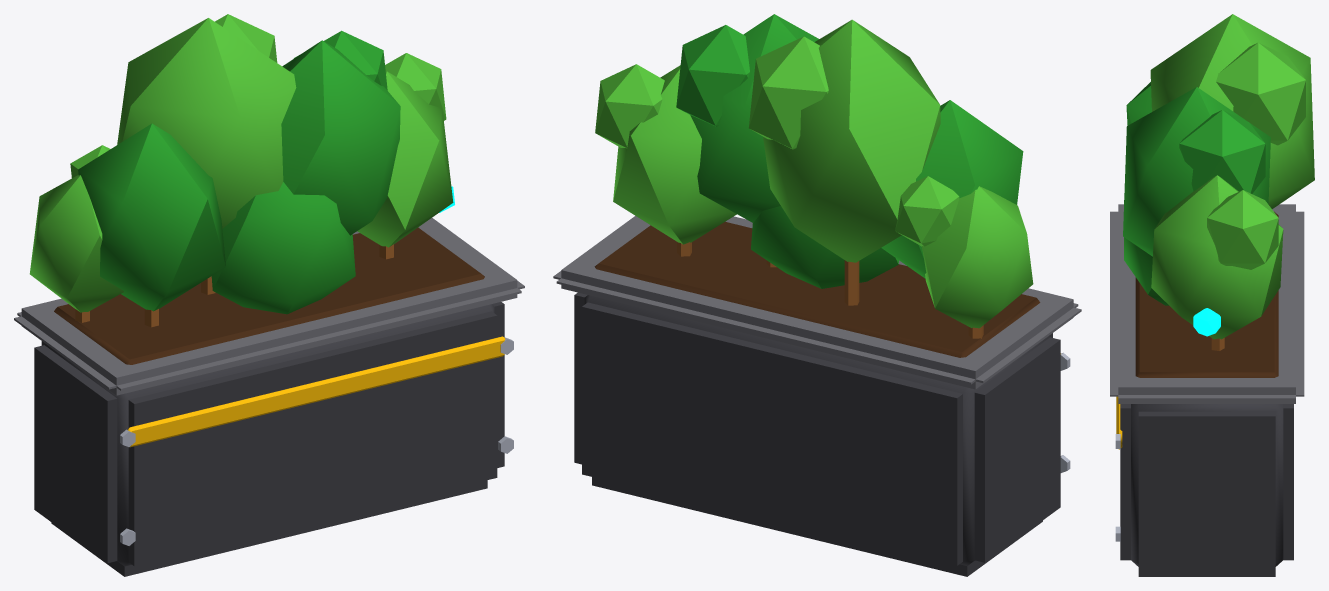
Rendered from plant_box.fbx.
The picture shows the model from 3 angles, left to right: view 1: azimuth 30°, elevation 25°; view 2: azimuth 150°, elevation 25°; view 3: azimuth 270°, elevation 25°; orthographic projection. The views are drawn at different scales.
Parts seen in each view (by area): view 1: plant_box; view 2: plant_box; view 3: plant_box.
Boxes of the visible parts, x1,y1,x2,y2 form: plant_box: (14,14,524,576); plant_box: (553,14,1081,576); plant_box: (1110,14,1314,576).
Bounding box in the file's own units: 4.49 × 4.95 × 2.
